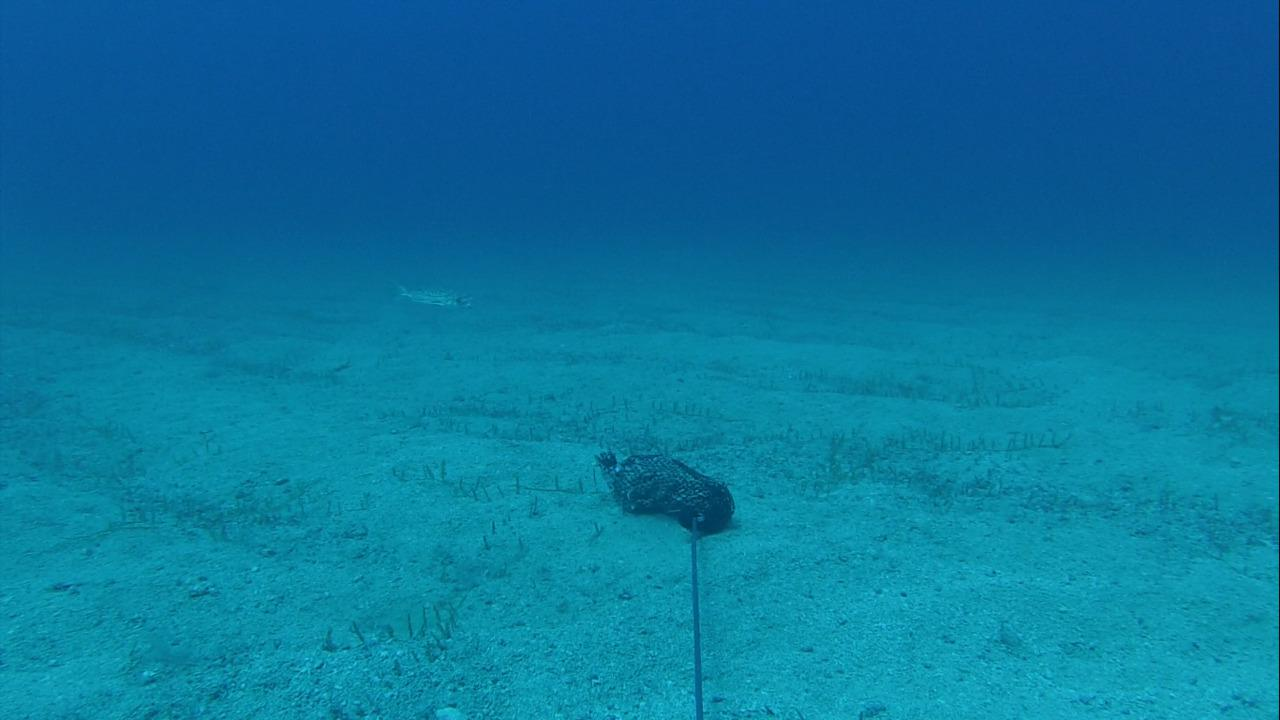dactylopterus: (377, 280, 487, 319)
